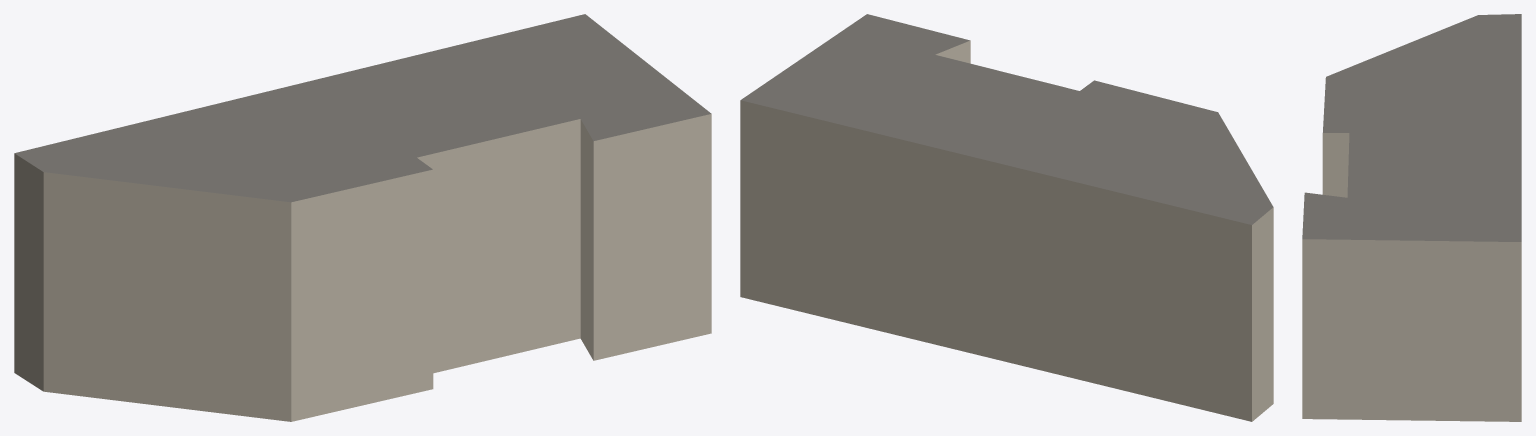
3 renders of one model, left to right at view 1: azimuth 30°, elevation 25°; view 2: azimuth 150°, elevation 25°; view 3: azimuth 270°, elevation 25°, orthographic. The views are drawn at different scales.
Visible parts, largest first — view 1: HP-w380339972; view 2: HP-w380339972; view 3: HP-w380339972.
Boxes of the visible parts, x1=… form: HP-w380339972: x1=14, y1=14, x2=711, y2=421; HP-w380339972: x1=740, y1=14, x2=1273, y2=421; HP-w380339972: x1=1302, y1=14, x2=1521, y2=421.
Bounding box in the file's own units: 48.97 × 18 × 19.9.
